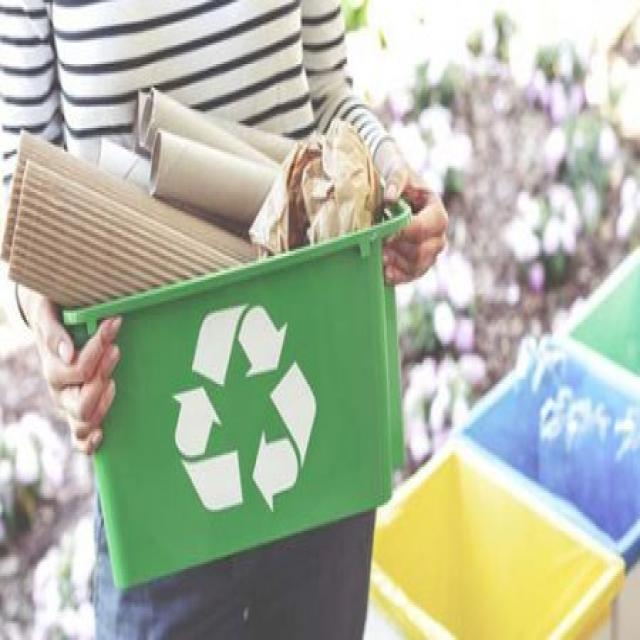Kertas: (4, 122, 172, 320), (127, 84, 283, 218), (281, 93, 391, 235)
